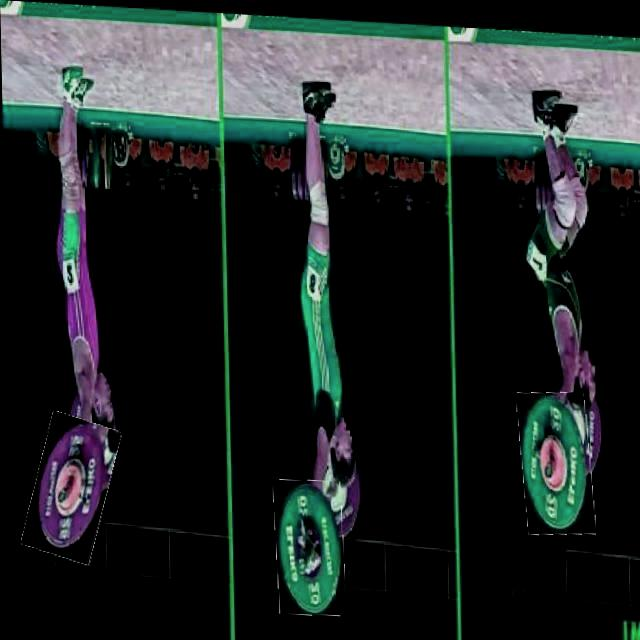barbell: (25, 412, 115, 564), (517, 385, 592, 530), (272, 475, 344, 614)
